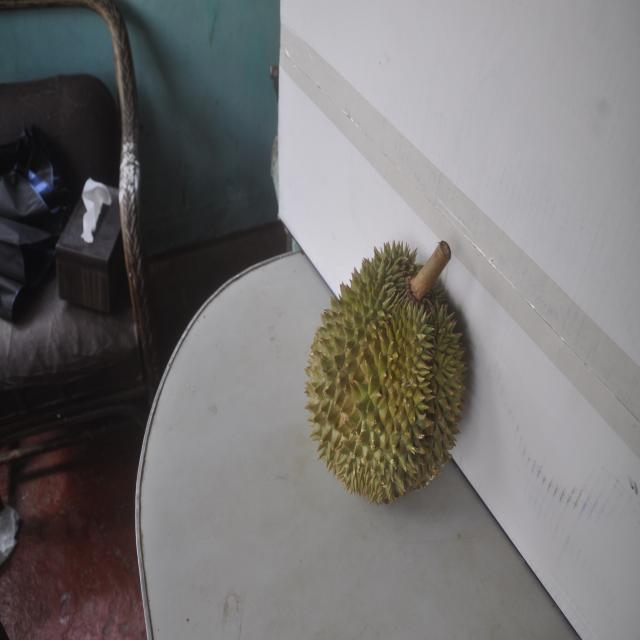mature: (309, 236, 467, 504)
